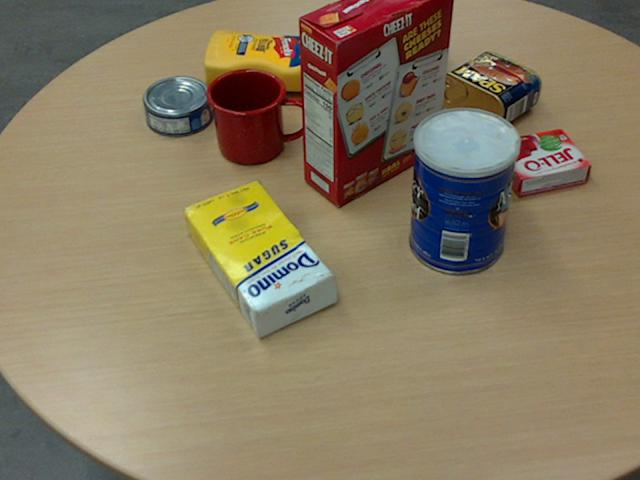cracker_box: (297, 0, 454, 204)
gelatin_box: (492, 127, 590, 194)
large_marker: (369, 21, 387, 111)
master_chef_can: (408, 107, 519, 275)
mug: (205, 67, 307, 163)
mustard_bottle: (203, 29, 356, 90)
potted_meat_can: (435, 51, 540, 135)
sugar_box: (180, 179, 336, 338)
tomato_soup_can: (377, 0, 430, 74)
tuna_fish_can: (141, 74, 212, 135)
